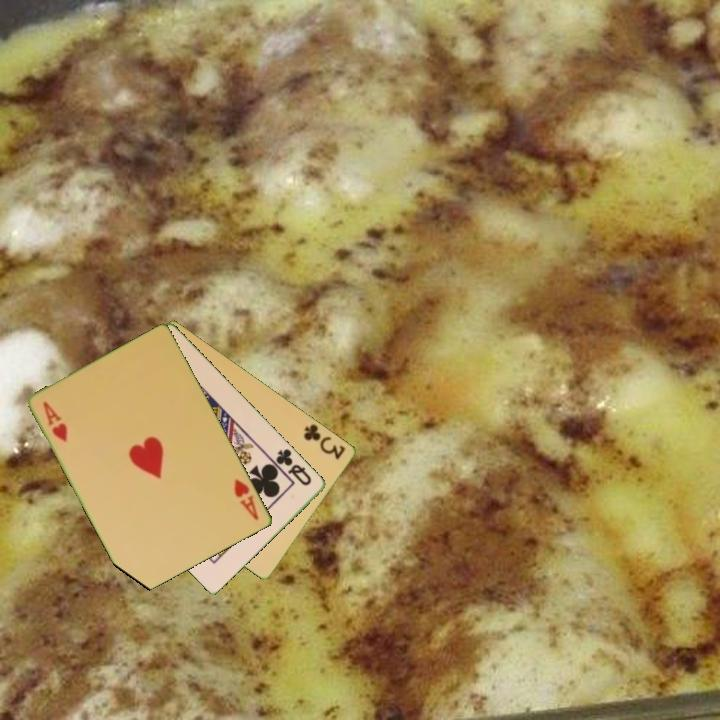3c: (300, 420, 349, 462)
Ah: (39, 398, 71, 446), (231, 475, 262, 523)
Qc: (273, 445, 315, 489)
